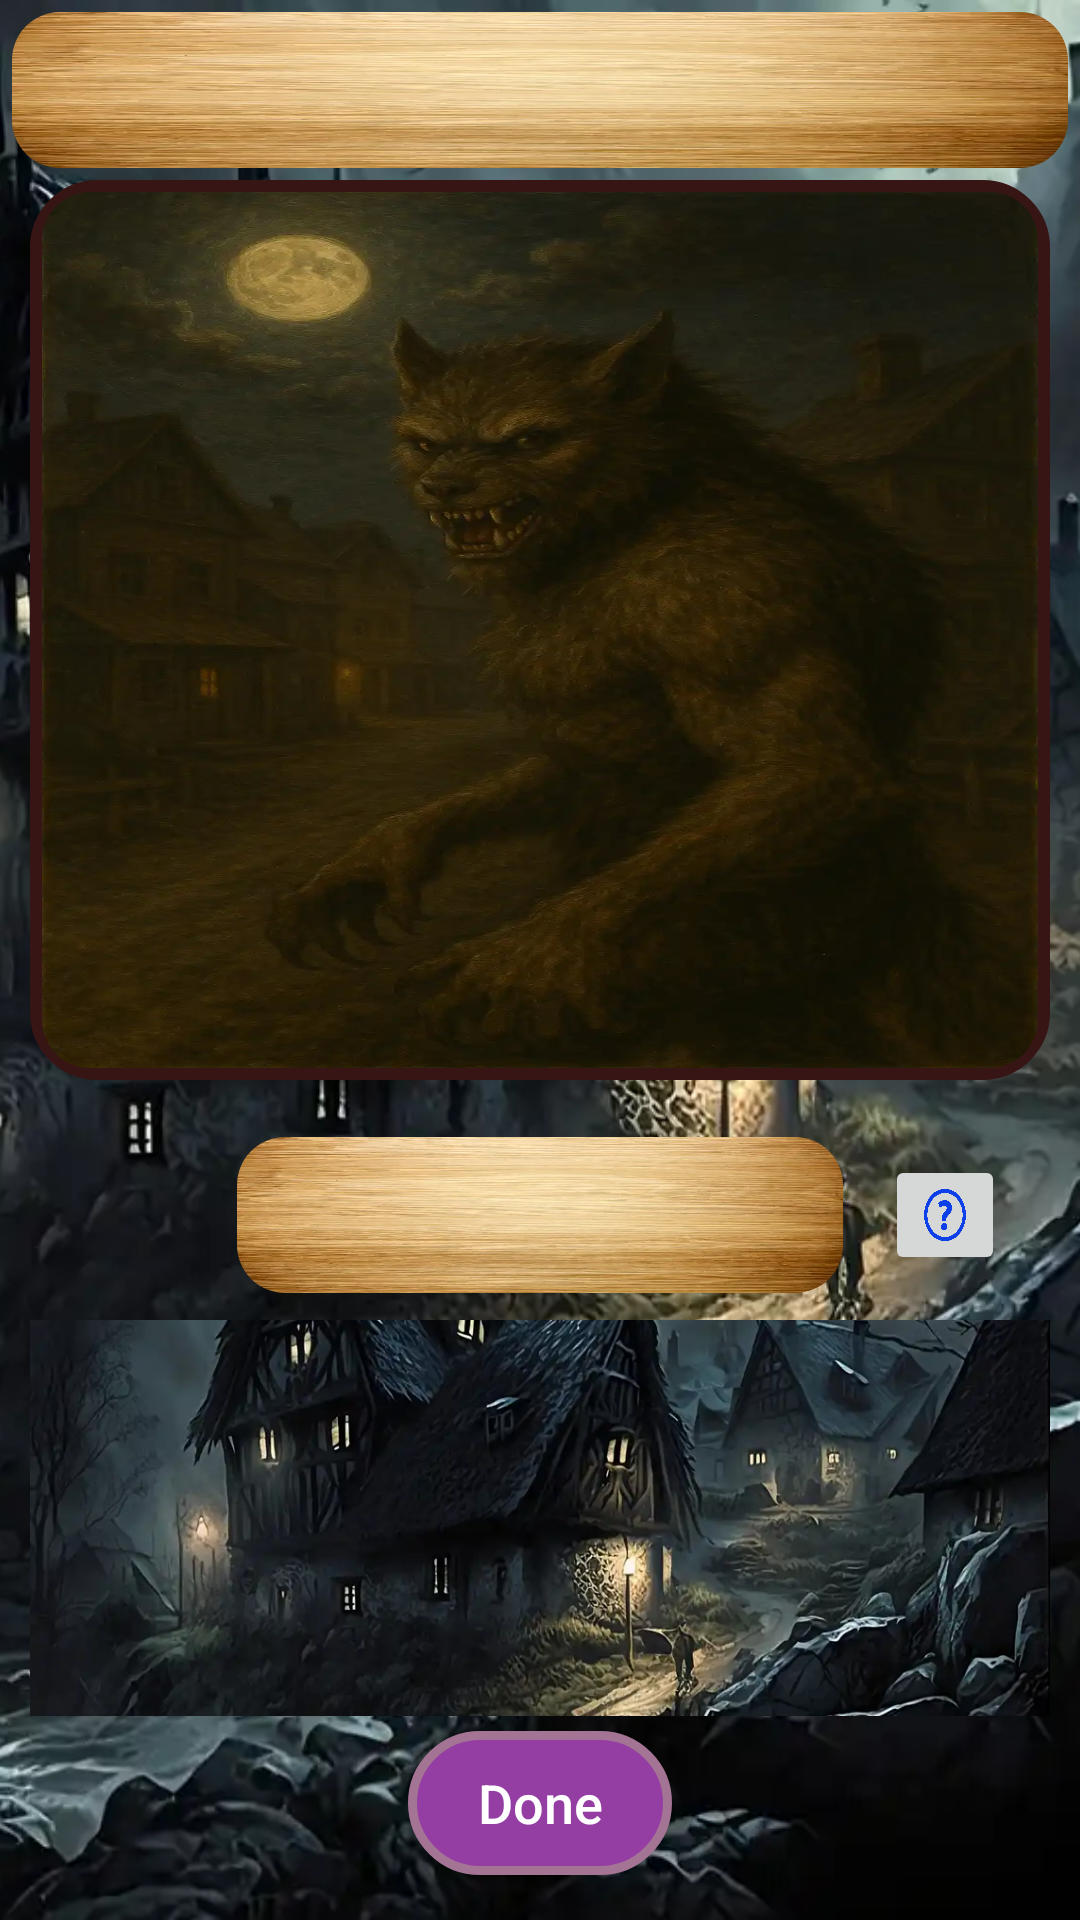

Named icons in this screenshot (1080px×1920px) and their centers, (x=x, y=y):
Role Description: (x=945, y=1215)
